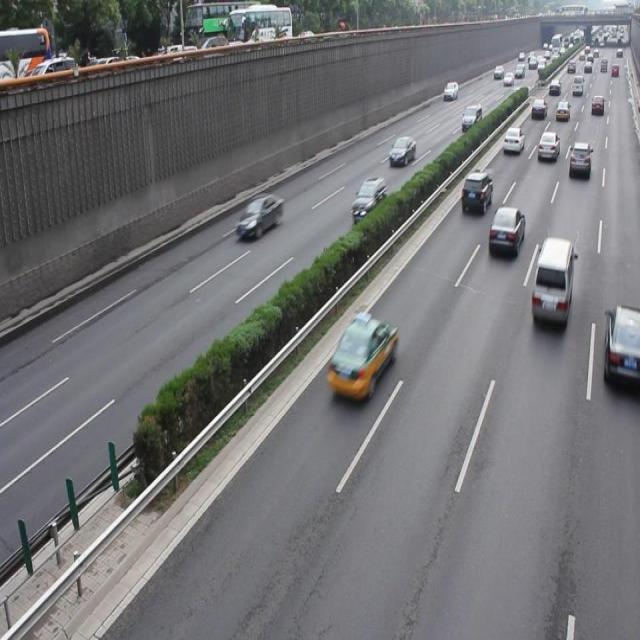car: (327, 312, 398, 399), (601, 304, 640, 392), (235, 192, 285, 242), (487, 203, 523, 260), (351, 175, 386, 222), (459, 168, 492, 214), (388, 134, 416, 167), (567, 140, 589, 178)
truck: (530, 236, 572, 320)
